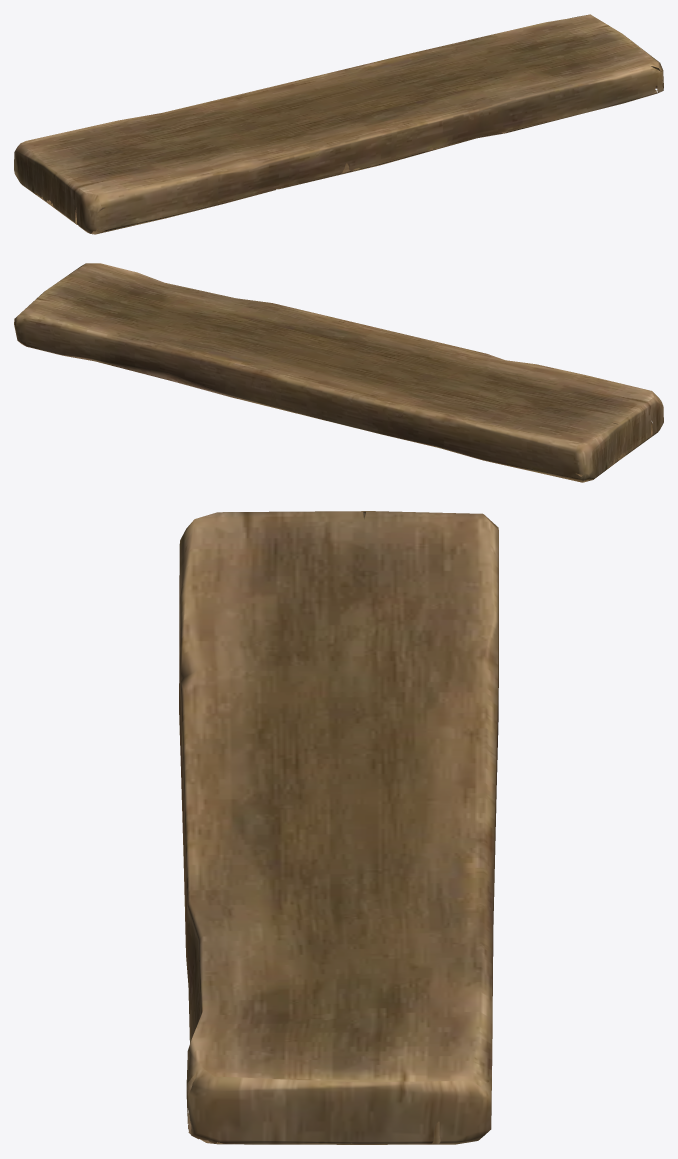
The picture shows the model from 3 angles, top to bottom: view 1: azimuth 30°, elevation 25°; view 2: azimuth 150°, elevation 25°; view 3: azimuth 270°, elevation 25°; orthographic projection. The views are drawn at different scales.
Visible parts, largest first — view 1: SM_Plank_Yew_01_LOD0; view 2: SM_Plank_Yew_01_LOD0; view 3: SM_Plank_Yew_01_LOD0.
Part boxes in pixels (bbox=[...]): SM_Plank_Yew_01_LOD0: bbox=[14, 14, 663, 234]; SM_Plank_Yew_01_LOD0: bbox=[14, 263, 663, 482]; SM_Plank_Yew_01_LOD0: bbox=[179, 511, 498, 1144].
Size of the model in its own units: 1.01 by 0.0642 by 0.2425.
1 material, 1 textured.
